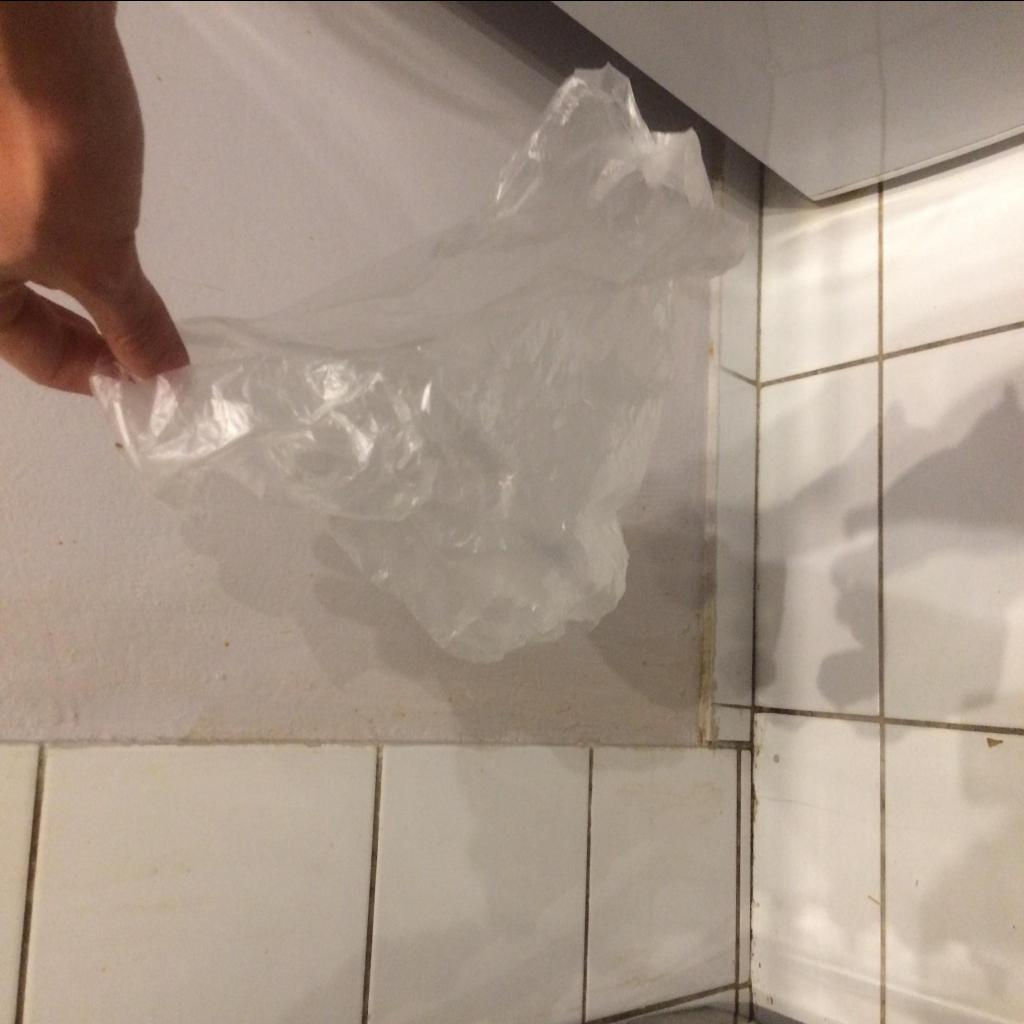Plastic film: (90, 60, 750, 660)
